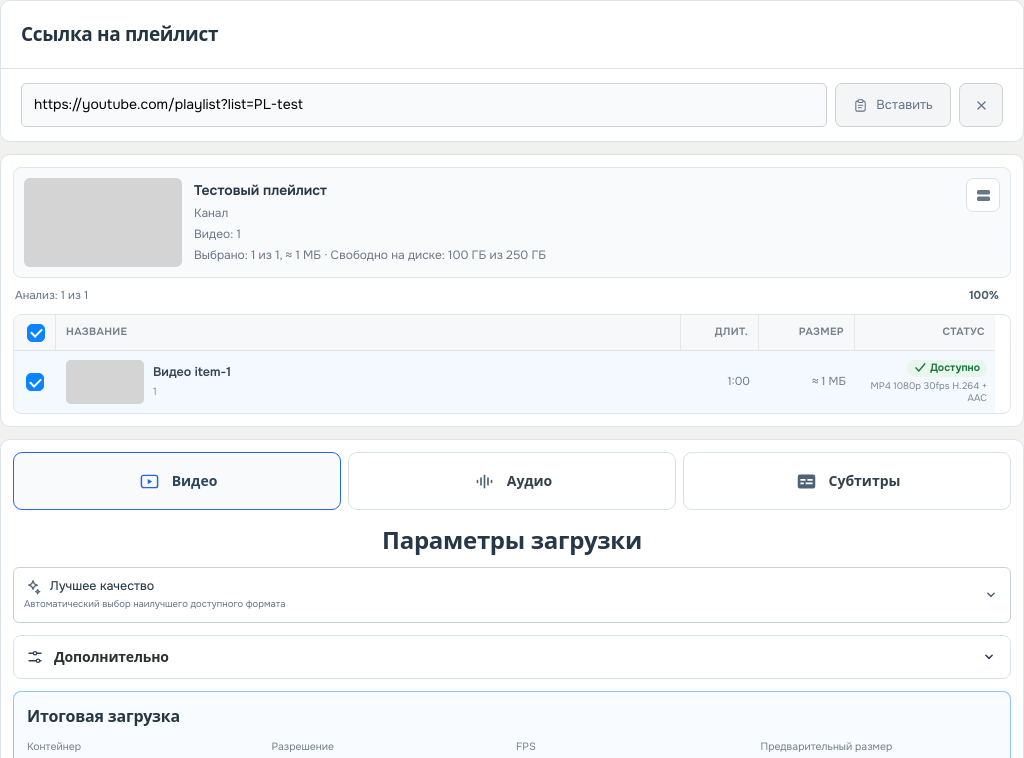
Test case: Playlist › uses the same mode controls and quality-profile presentation as New download
Check: the number of icons with class "mode-tab-icon" is 3, box [139,471,160,492]; [474,471,495,492]; [796,471,817,492]
Click the dropdown named "Профиль скачивания". click: (102, 586)
box: [13,567,1011,623]
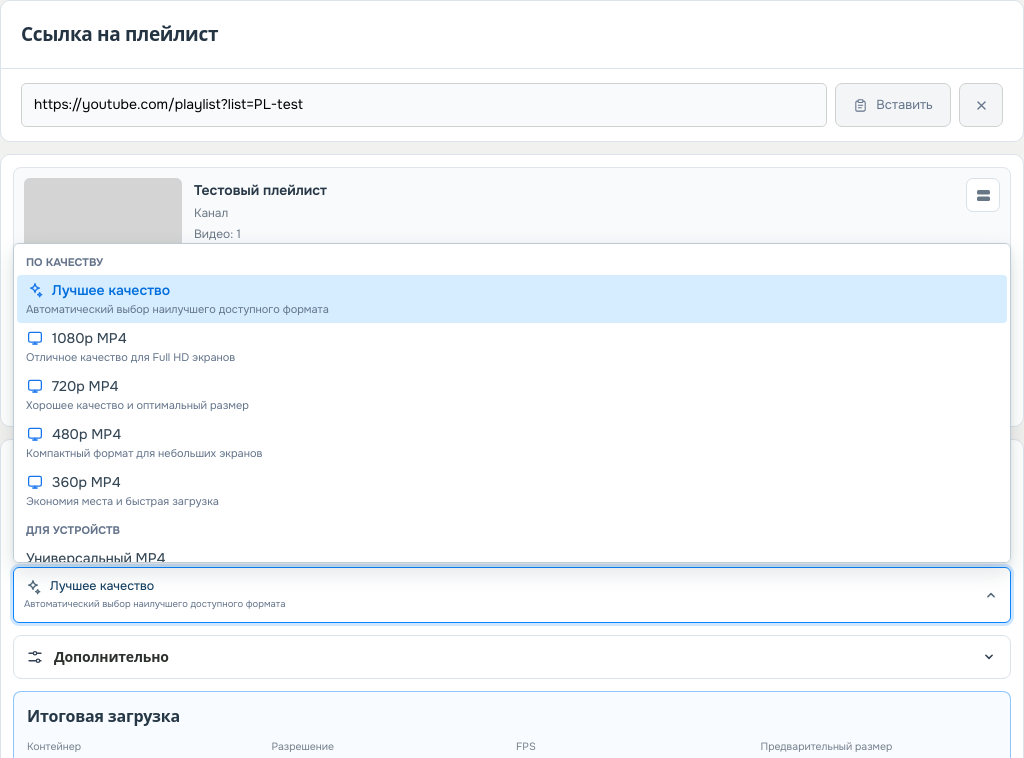
Check: the text "По качеству" is shown, box [26,255,103,269]
Check: the text "Для устройств" is shown, box [26,523,120,537]
Check: the text "Отличное качество для Full HD экранов" is shown, box [26,350,235,364]
